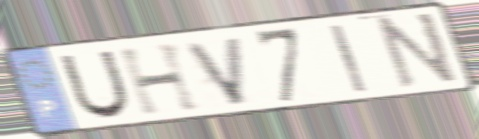7: (254, 26, 306, 105)
H: (114, 39, 205, 118)
I: (326, 22, 371, 95)
N: (375, 10, 462, 91)
U: (56, 48, 133, 121)
V: (181, 34, 250, 108)
